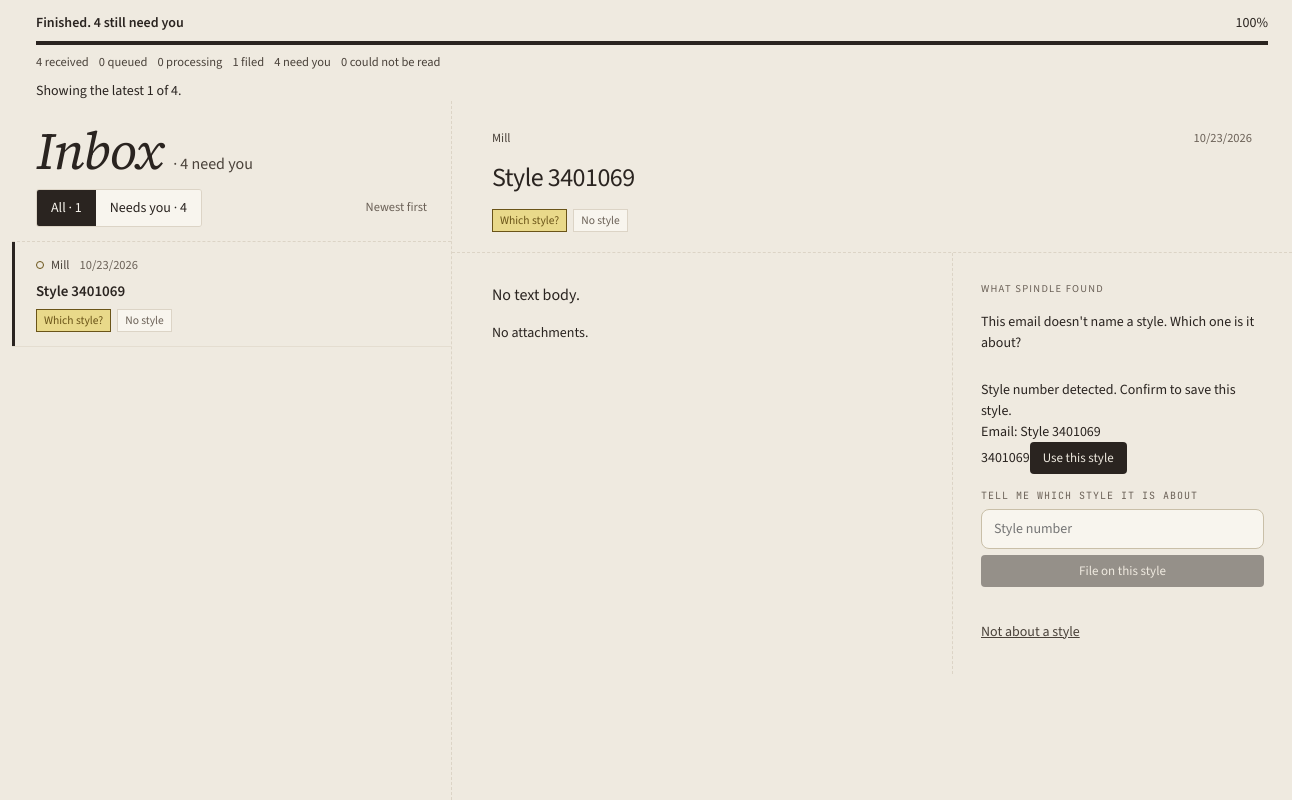
Test: Inbox › keeps the Needs you count on the workspace total after an email is set aside
Expected: the button "Needs you · 4" is shown, [96, 190, 201, 226]
Expected: the text "4 need you" is shown, [274, 53, 331, 72]
Click the button "Not about a style" at (1030, 631), box [981, 616, 1080, 646]
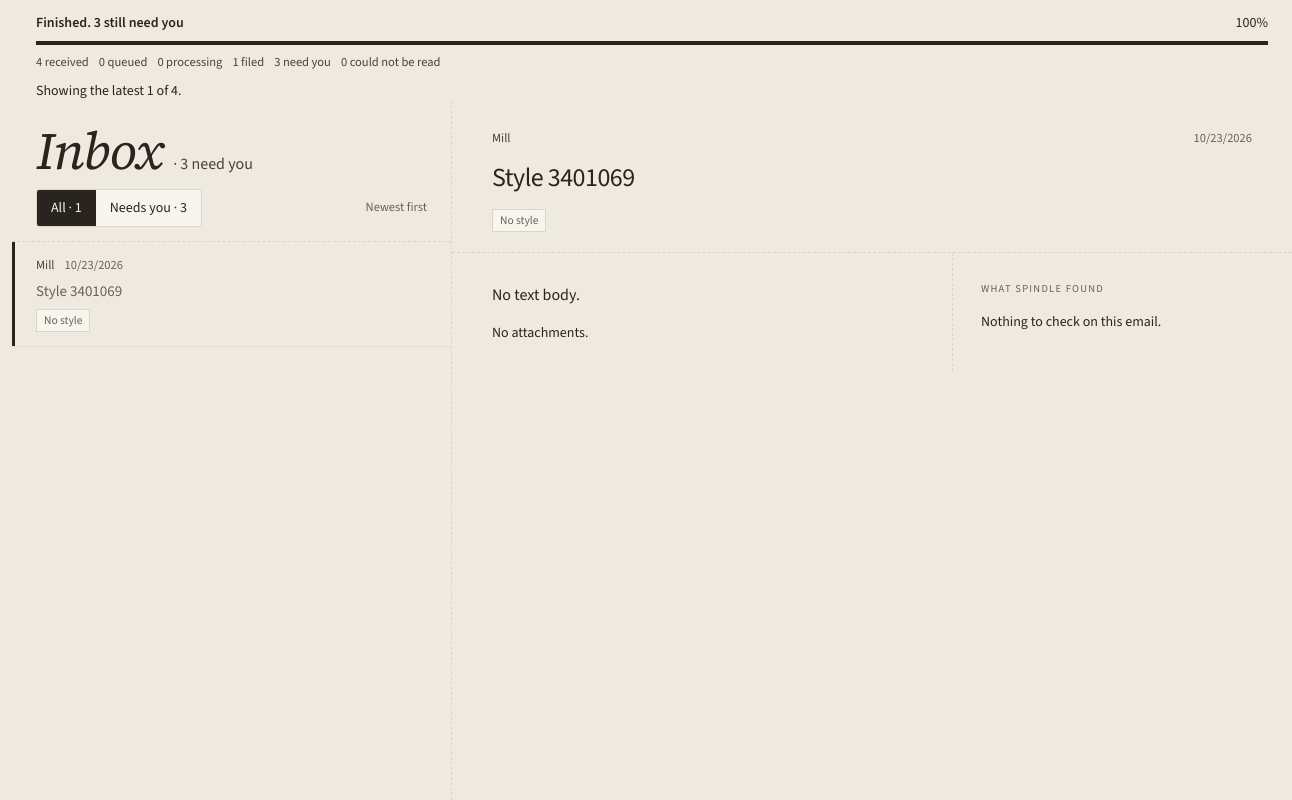
Result: the button "Needs you · 3" is shown
Result: the text "3 need you" is shown at [274, 53, 331, 72]
Click the button "Needs you · 3" at (148, 208), box [96, 190, 201, 226]
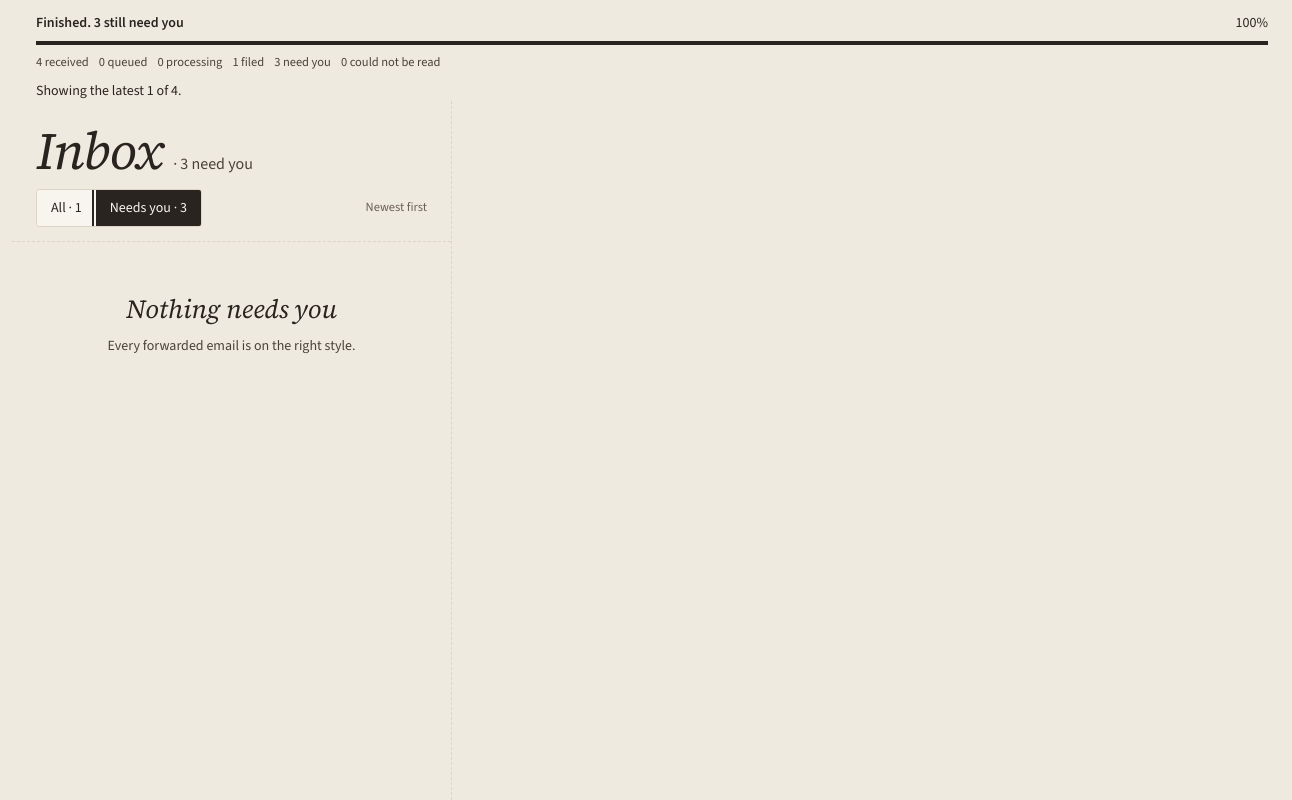
Result: the heading "Nothing needs you" is shown at [126, 291, 337, 327]
